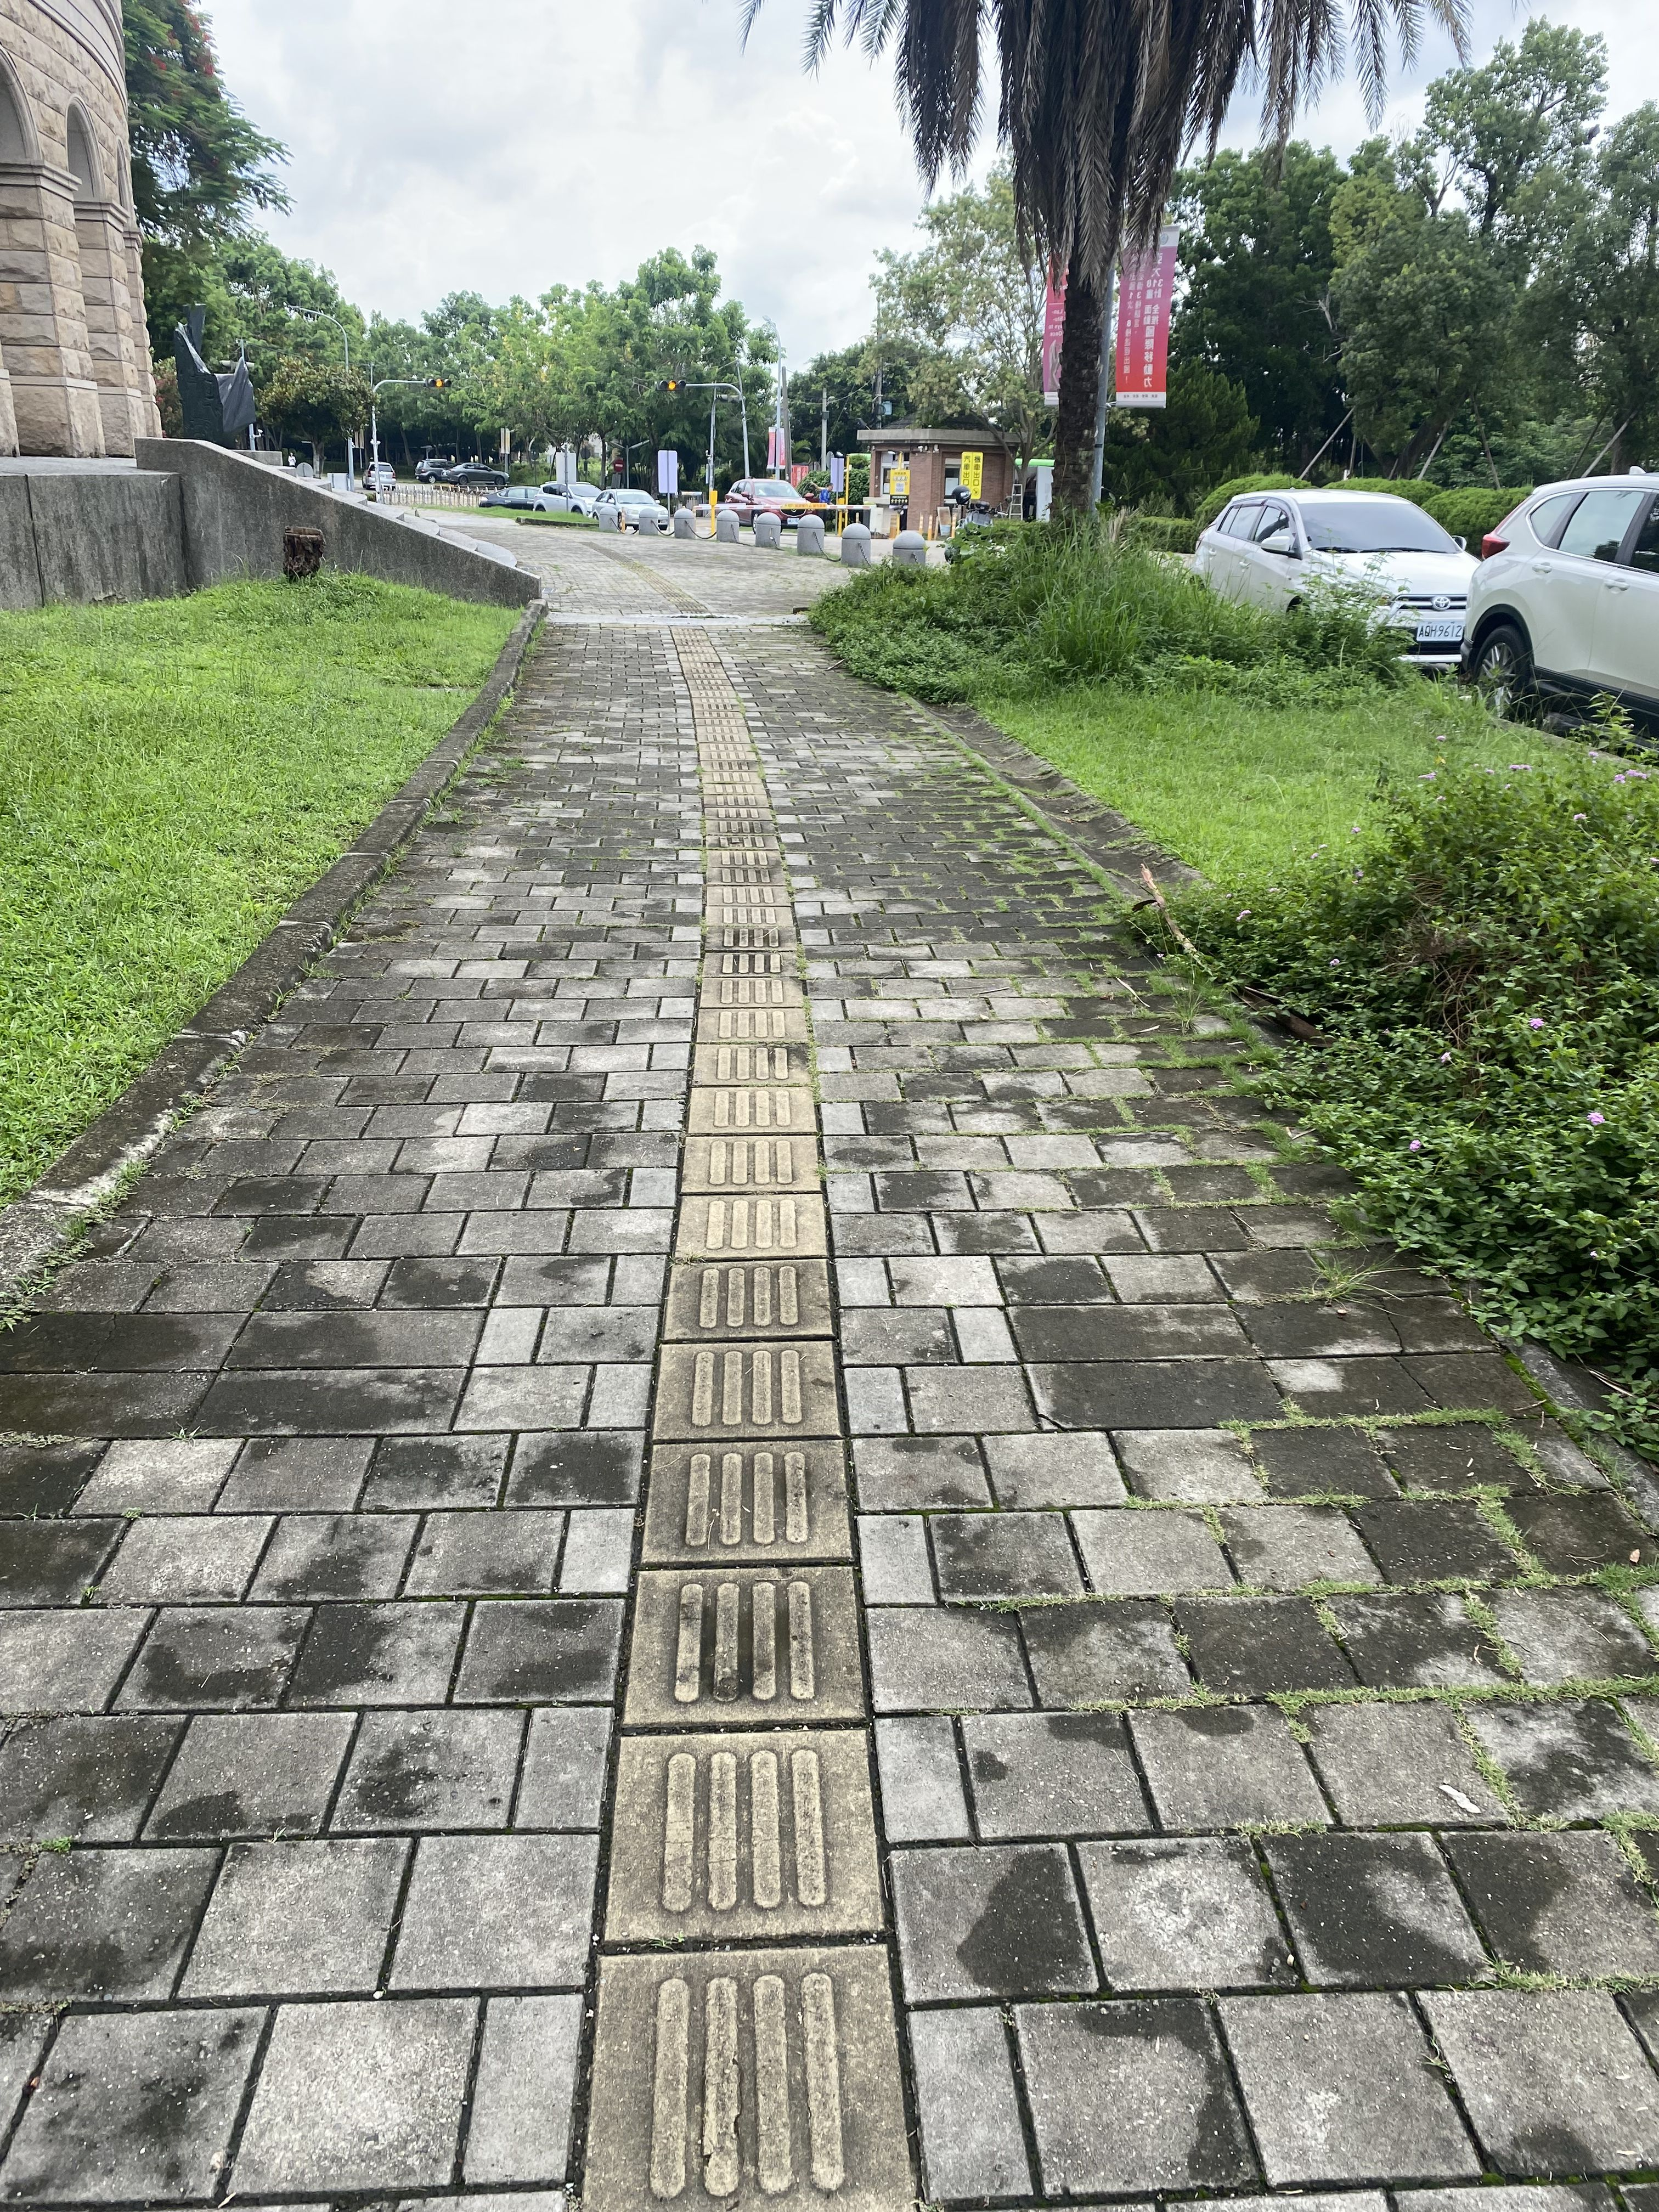0: (10, 766, 1659, 2212)
sidewalk: (425, 502, 1079, 1554)
